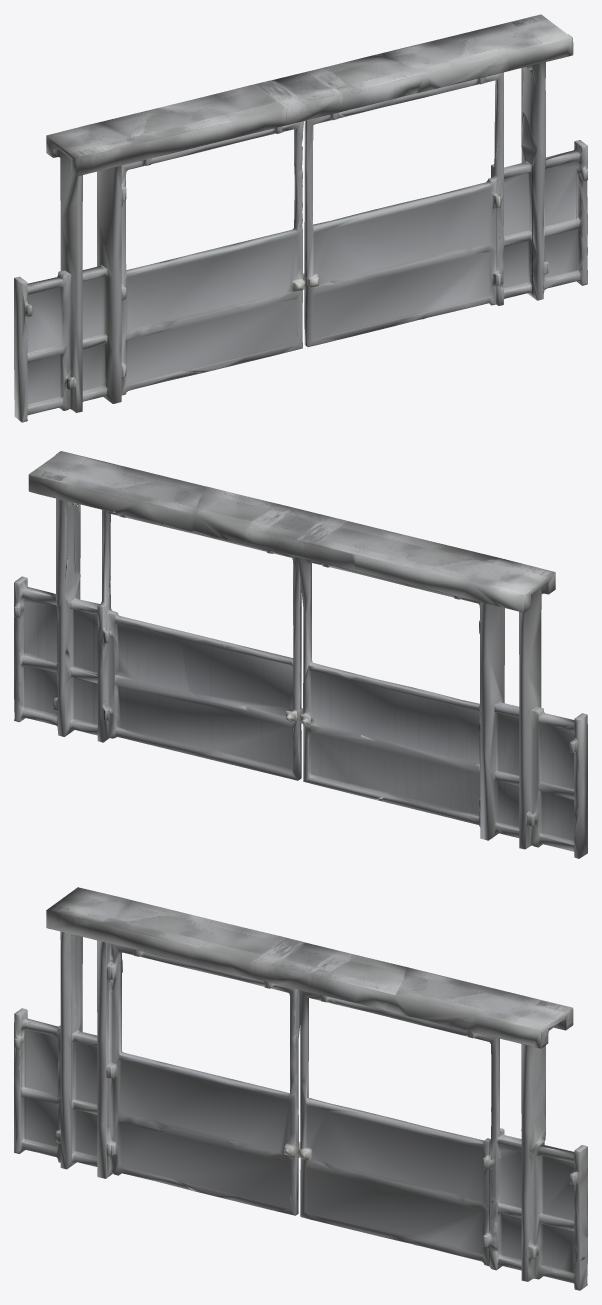
The model's file is bazar-gate.glb.
The picture shows the model from 3 angles, top to bottom: view 1: azimuth 30°, elevation 25°; view 2: azimuth 150°, elevation 25°; view 3: azimuth 330°, elevation 25°; orthographic projection.
Parts seen in each view (by area): view 1: Mesh_0; view 2: Mesh_0; view 3: Mesh_0.
Part boxes in pixels (<box>): Mesh_0: <box>14,14,587,422</box>; Mesh_0: <box>14,451,587,858</box>; Mesh_0: <box>14,887,587,1290</box>.
Size of the model in its own units: 1.91 by 0.8477 by 0.1891.
1 material, 1 textured.
